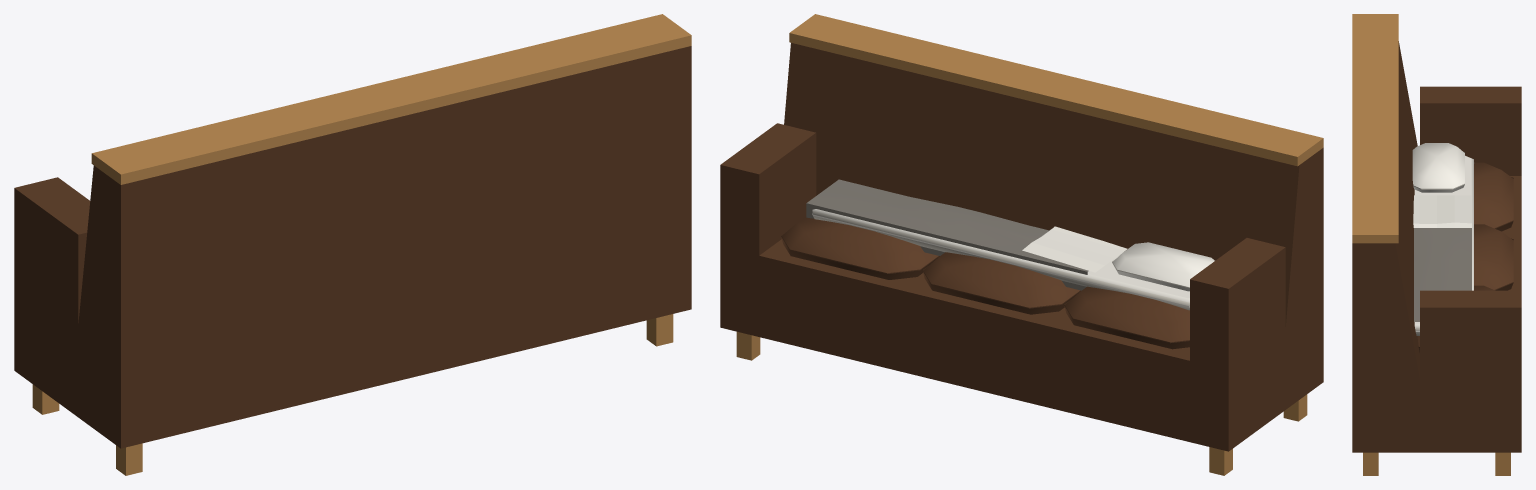
The picture shows the model from 3 angles, left to right: view 1: azimuth 30°, elevation 25°; view 2: azimuth 150°, elevation 25°; view 3: azimuth 270°, elevation 25°; orthographic projection. The views are drawn at different scales.
Parts seen in each view (by area): view 1: parametric-variant-sofa-crew-3b4563c1a987332005dc; view 2: parametric-variant-sofa-crew-3b4563c1a987332005dc; view 3: parametric-variant-sofa-crew-3b4563c1a987332005dc.
Part boxes in pixels (left/top/right/bottom): parametric-variant-sofa-crew-3b4563c1a987332005dc: left=14, top=14, right=691, bottom=475; parametric-variant-sofa-crew-3b4563c1a987332005dc: left=720, top=14, right=1323, bottom=475; parametric-variant-sofa-crew-3b4563c1a987332005dc: left=1352, top=14, right=1521, bottom=475.
Size of the model in its own units: 1.7 by 0.88 by 0.55.
